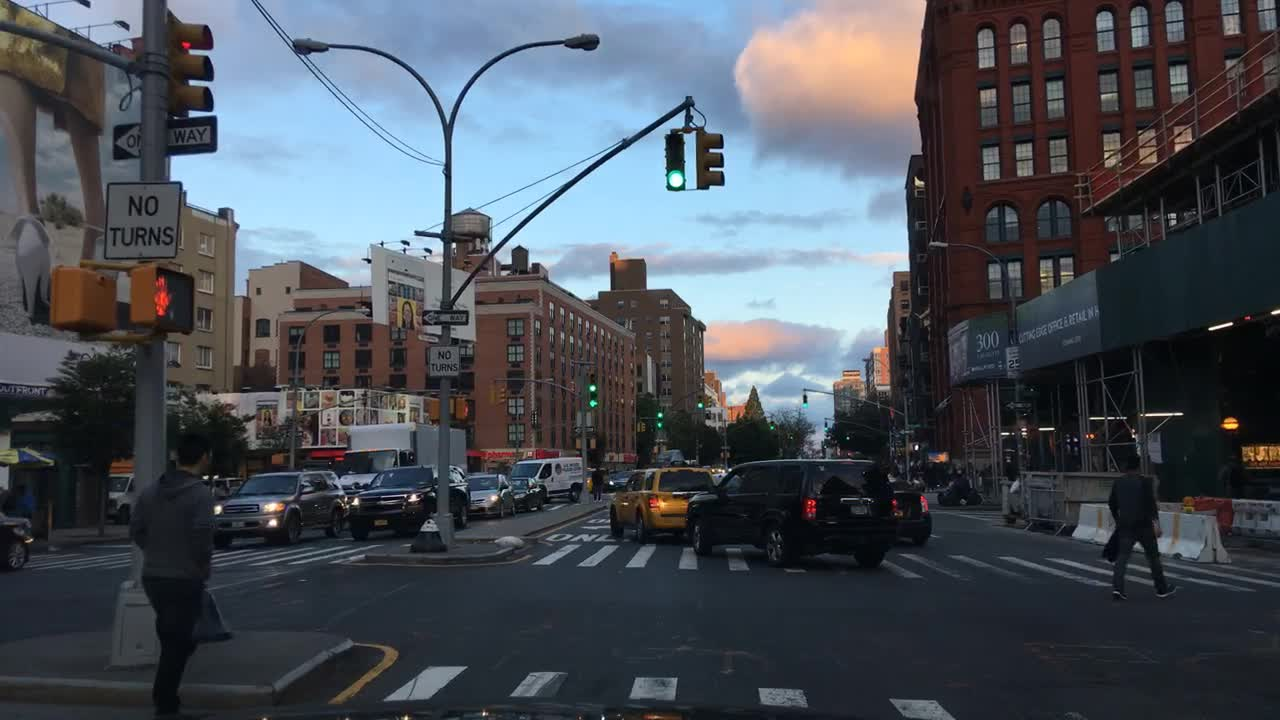car: (681, 457, 897, 571), (210, 469, 346, 553), (346, 463, 472, 545), (606, 466, 714, 545), (506, 456, 585, 502), (887, 474, 934, 548), (466, 472, 517, 520), (0, 507, 36, 575), (103, 471, 139, 524), (505, 474, 547, 514), (205, 475, 245, 500), (584, 465, 609, 490), (609, 469, 635, 491), (708, 460, 728, 475)
person: (130, 429, 235, 718), (1099, 452, 1181, 605), (11, 480, 44, 545), (976, 458, 994, 499), (588, 464, 606, 505), (919, 455, 934, 499), (913, 454, 925, 491), (209, 474, 227, 497), (945, 458, 957, 484), (937, 458, 948, 485), (907, 455, 919, 479)
traffic light: (167, 10, 218, 119), (45, 266, 119, 335), (128, 265, 198, 333), (692, 122, 724, 193), (661, 125, 686, 193), (454, 393, 471, 422), (586, 368, 598, 408), (269, 449, 291, 467), (424, 396, 439, 422), (655, 404, 667, 431), (907, 439, 925, 454), (766, 413, 776, 434), (694, 390, 703, 411), (799, 389, 808, 410), (586, 435, 598, 449), (573, 435, 585, 449), (820, 419, 829, 432), (637, 179, 643, 191)
traffic sign: (101, 179, 182, 260), (111, 113, 219, 160), (427, 342, 460, 376), (417, 306, 469, 327), (1002, 344, 1023, 380), (1004, 398, 1034, 413), (571, 424, 595, 433), (898, 425, 916, 437), (716, 443, 733, 452)
truck: (340, 421, 469, 503)
